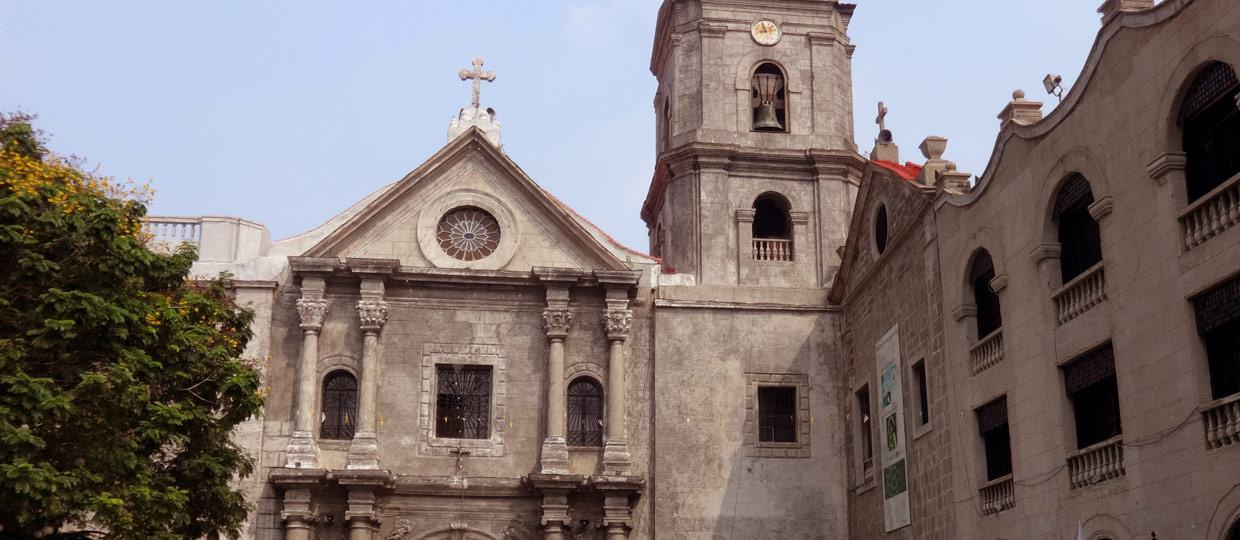san_agustin_church_intramuros_manila: (263, 3, 866, 540)
